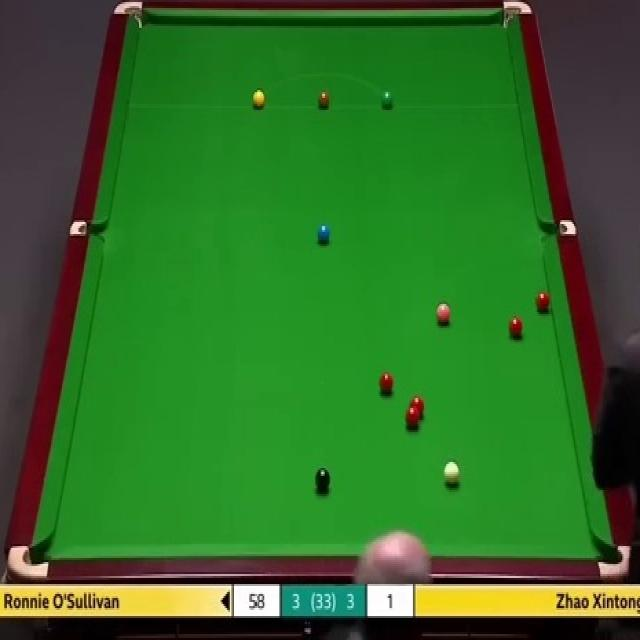pocket: (7, 540, 50, 582), (597, 540, 637, 583), (500, 0, 532, 32), (113, 0, 143, 28), (64, 217, 106, 237), (540, 220, 574, 235)
